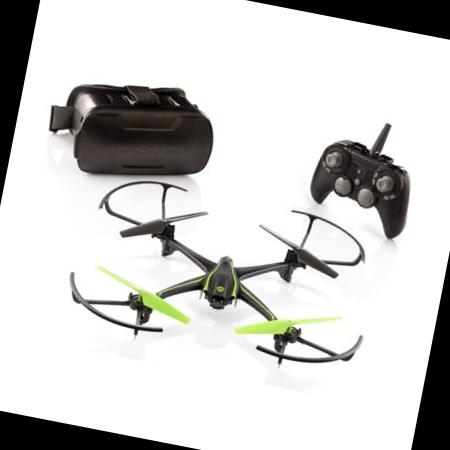drone: (57, 166, 396, 399)
